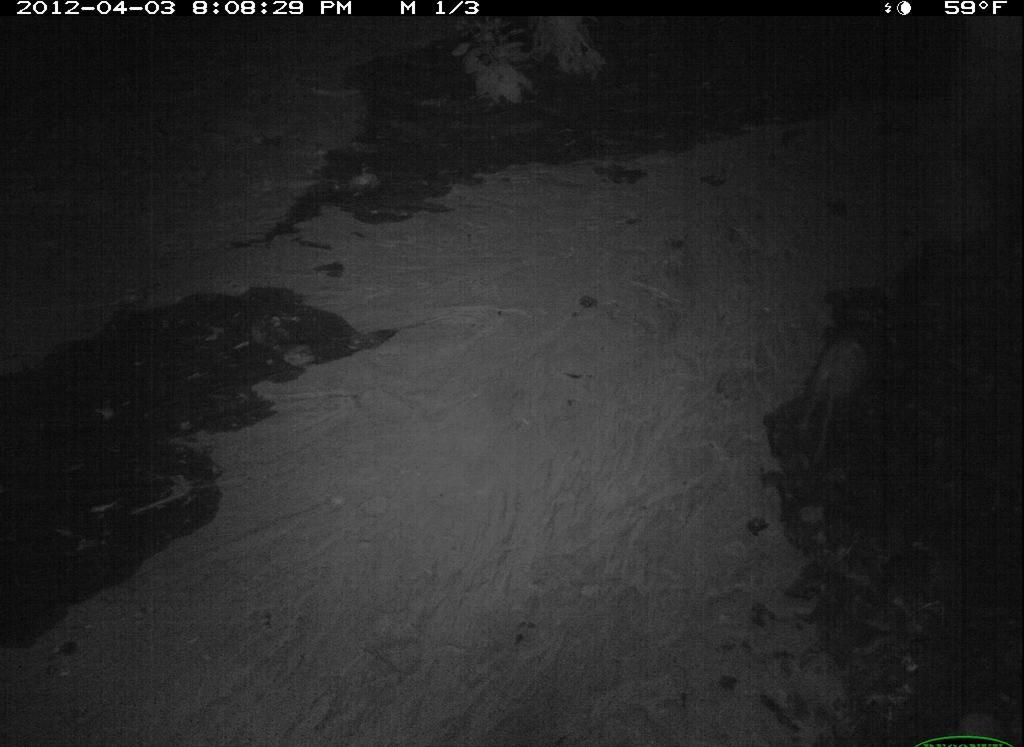opossum: (795, 323, 884, 457)
